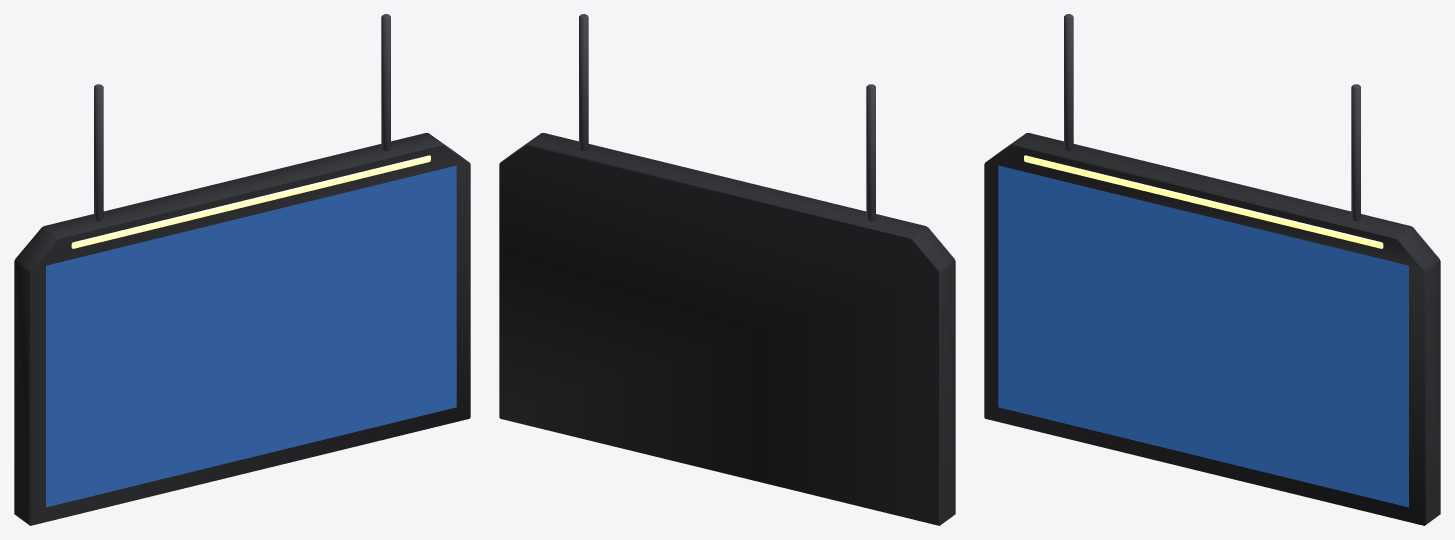
Rendered from Small_Scoreboard.glb.
The picture shows the model from 3 angles, left to right: view 1: azimuth 30°, elevation 25°; view 2: azimuth 150°, elevation 25°; view 3: azimuth 330°, elevation 25°; orthographic projection.
Visible parts, largest first — view 1: Small_Scoreboard; view 2: Small_Scoreboard; view 3: Small_Scoreboard.
Part boxes in pixels (x1,y1,x2,y2): Small_Scoreboard: (14, 14, 470, 525); Small_Scoreboard: (499, 14, 955, 525); Small_Scoreboard: (984, 14, 1440, 525).
Bounding box in the file's own units: 3.44 × 3.1 × 0.24.
